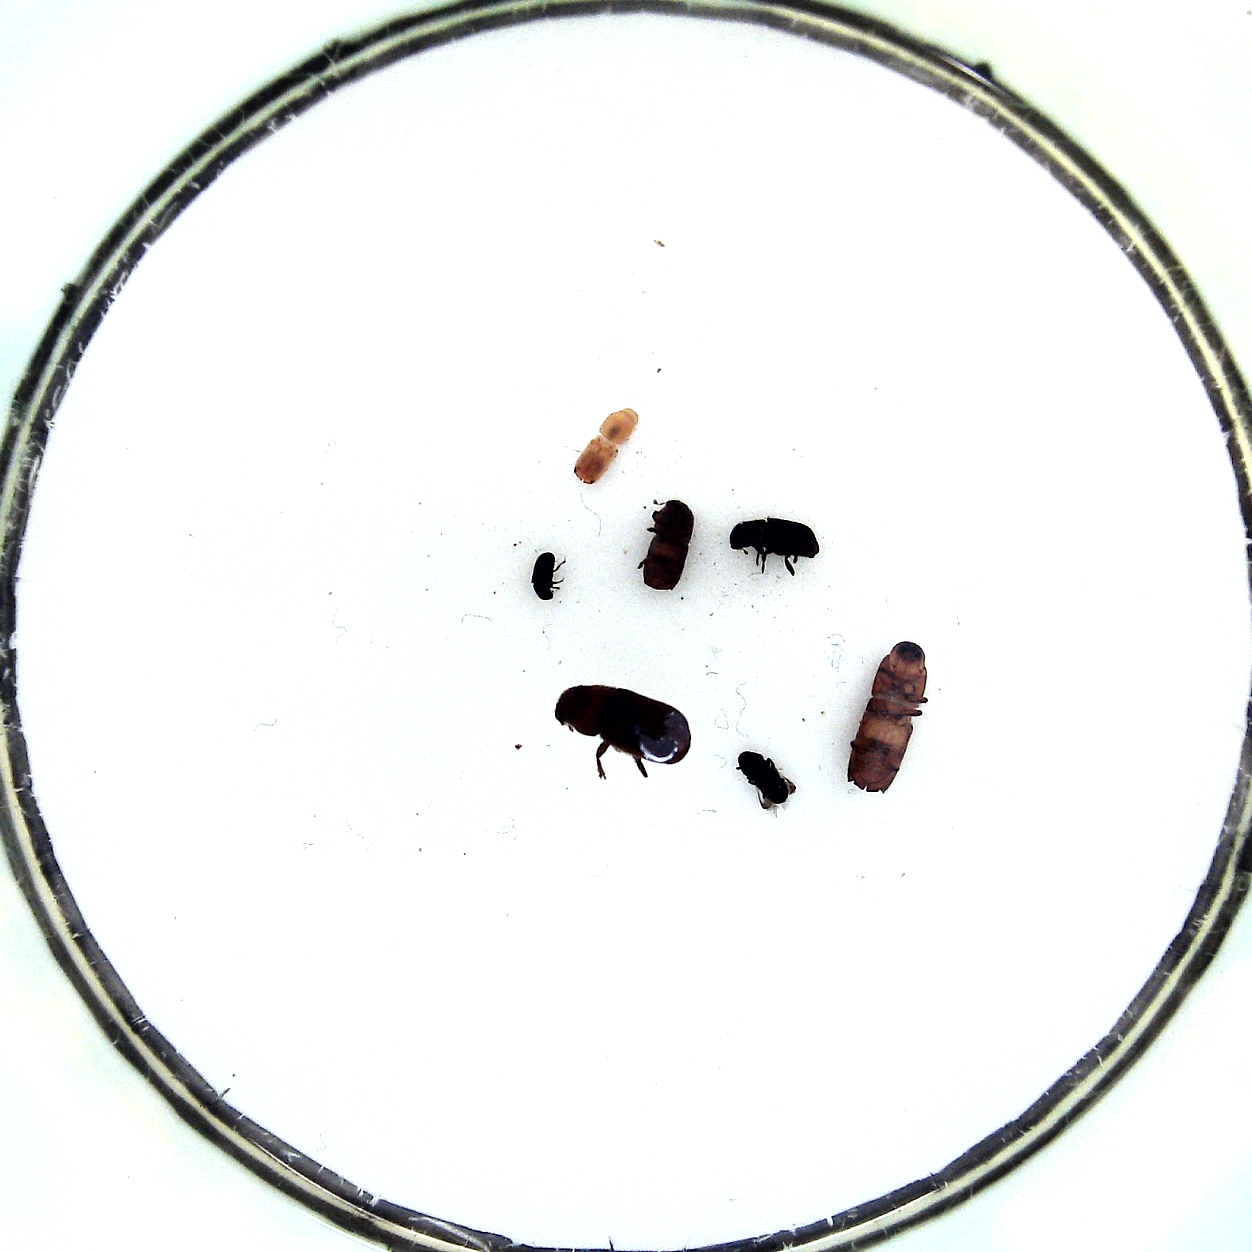Boerner: (836, 636, 931, 800)
Leconte: (543, 676, 695, 778)
Linnaeus: (636, 495, 699, 595)
acuminatus: (569, 402, 644, 490)
armandi: (723, 510, 828, 577)
coleoptera: (731, 746, 803, 817), (526, 543, 571, 603)
